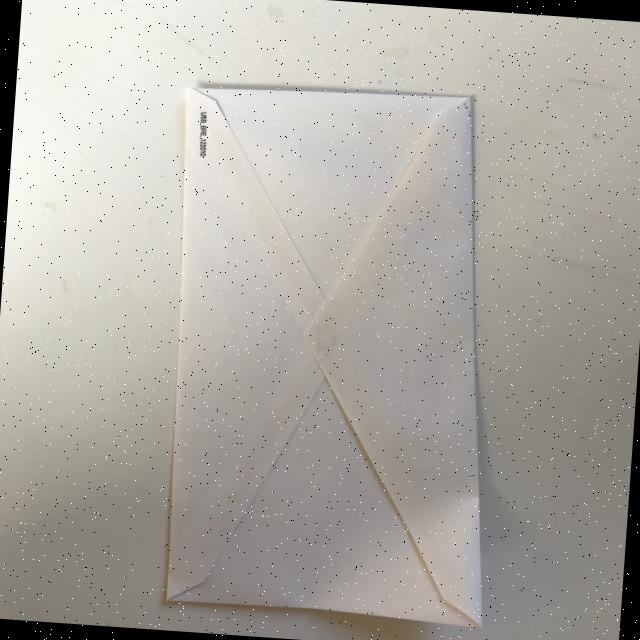paper: (150, 76, 520, 627)
